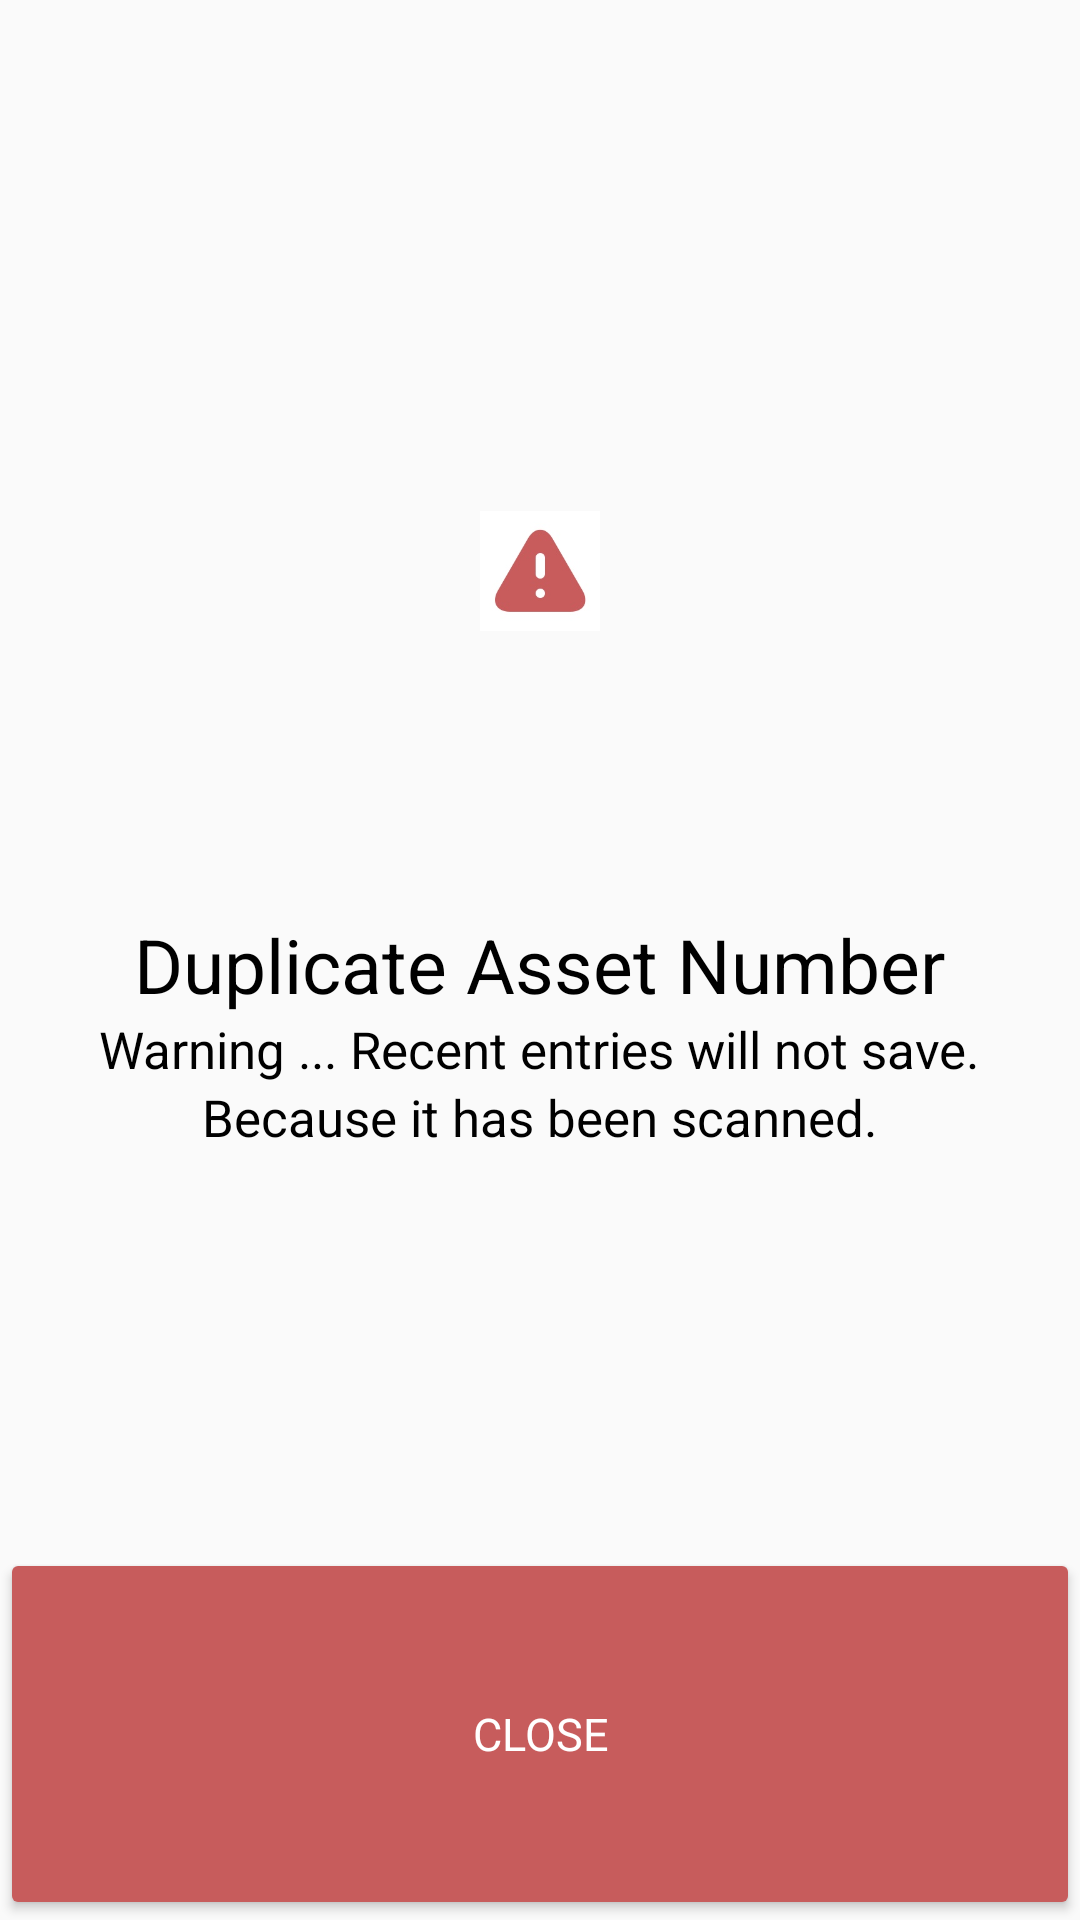

Named icons in this screenshot (1080 x 1920) and their centers, [x,y]:
redwarning: [540,571]
